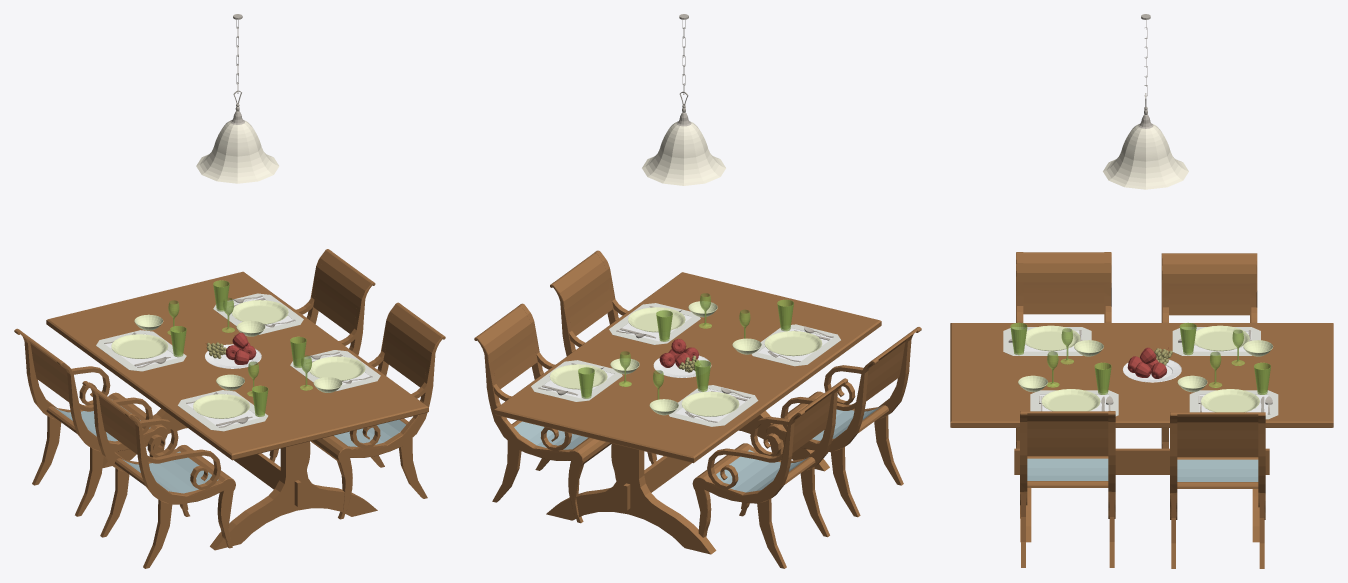
The model's file is DiningSet1.obj.
The picture shows the model from 3 angles, left to right: view 1: azimuth 30°, elevation 25°; view 2: azimuth 150°, elevation 25°; view 3: azimuth 270°, elevation 25°; orthographic projection. The views are drawn at different scales.
Size of the model in its own units: 78.21 by 109 by 78.
